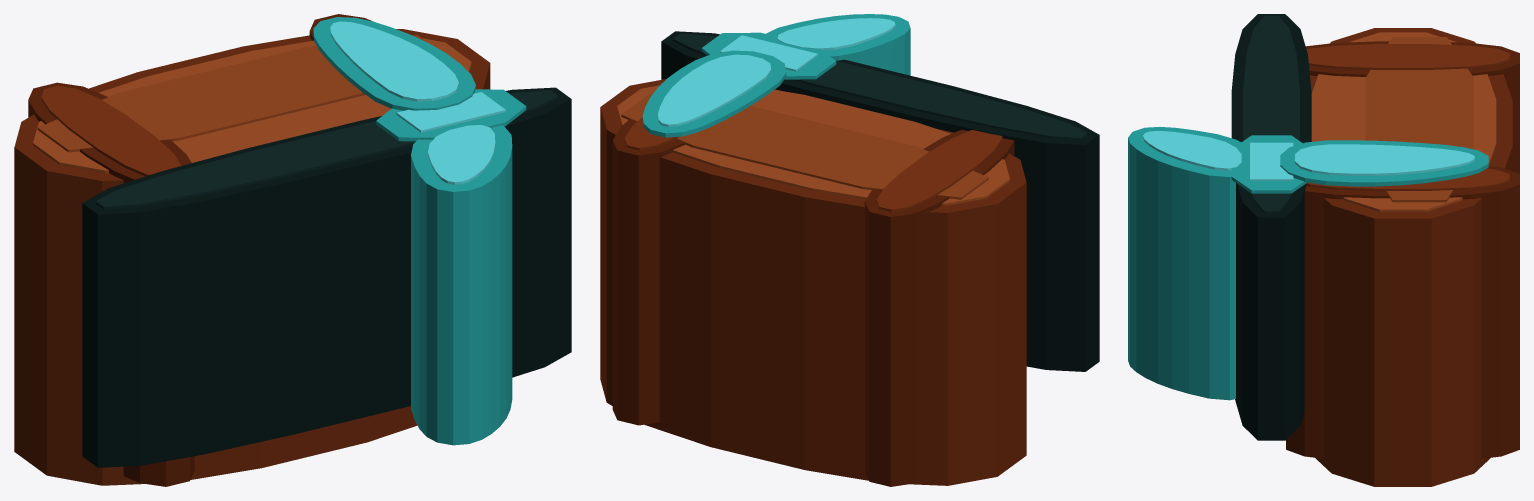
The model's file is bag_picareta.fbx.
3 renders of one model, left to right at view 1: azimuth 30°, elevation 25°; view 2: azimuth 150°, elevation 25°; view 3: azimuth 270°, elevation 25°, orthographic. The views are drawn at different scales.
Parts seen in each view (by area): view 1: bag_picareta_mochila; view 2: bag_picareta_mochila; view 3: bag_picareta_mochila.
Part boxes in pixels (x1,y1,x2,y2): bag_picareta_mochila: (14,14,571,486); bag_picareta_mochila: (600,14,1099,486); bag_picareta_mochila: (1128,14,1519,486).
Size of the model in its own units: 2.89 by 1.91 by 2.36.
Materials: 1 (1 with a texture image).
